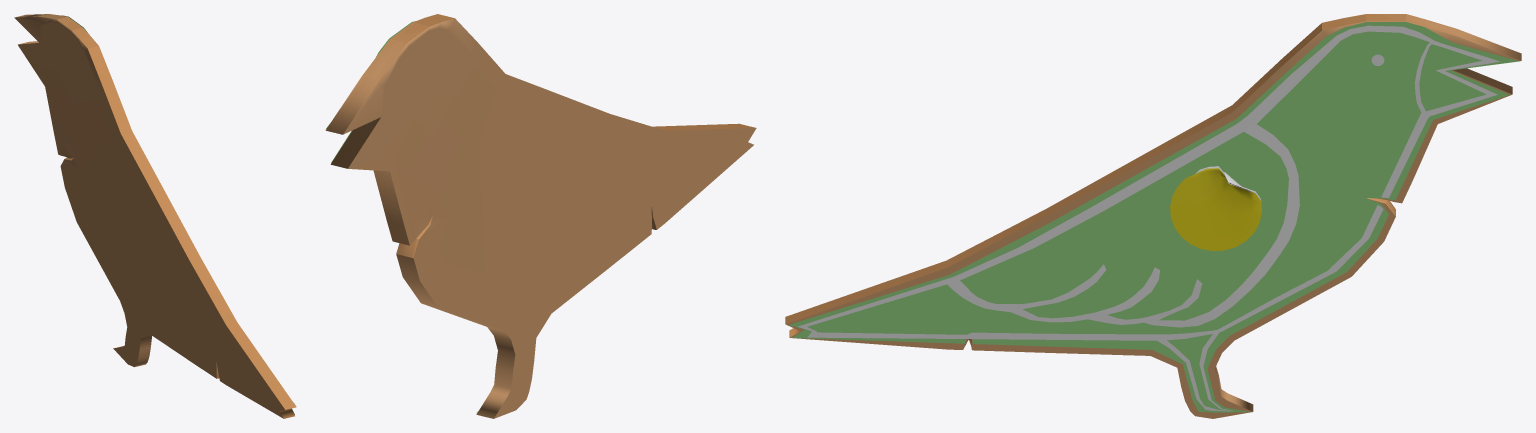
Rendered from SM_Wooden_Bird.fbx.
The picture shows the model from 3 angles, left to right: view 1: azimuth 30°, elevation 25°; view 2: azimuth 150°, elevation 25°; view 3: azimuth 270°, elevation 25°; orthographic projection. The views are drawn at different scales.
Parts seen in each view (by area): view 1: SM_Wooden_Bird; view 2: SM_Wooden_Bird; view 3: SM_Wooden_Bird.
Boxes of the visible parts, x1,y1,x2,y2 form: SM_Wooden_Bird: (14, 14, 296, 418); SM_Wooden_Bird: (325, 14, 756, 418); SM_Wooden_Bird: (785, 14, 1521, 418).
Bounding box in the file's own units: 2.01 × 27.11 × 45.51.
